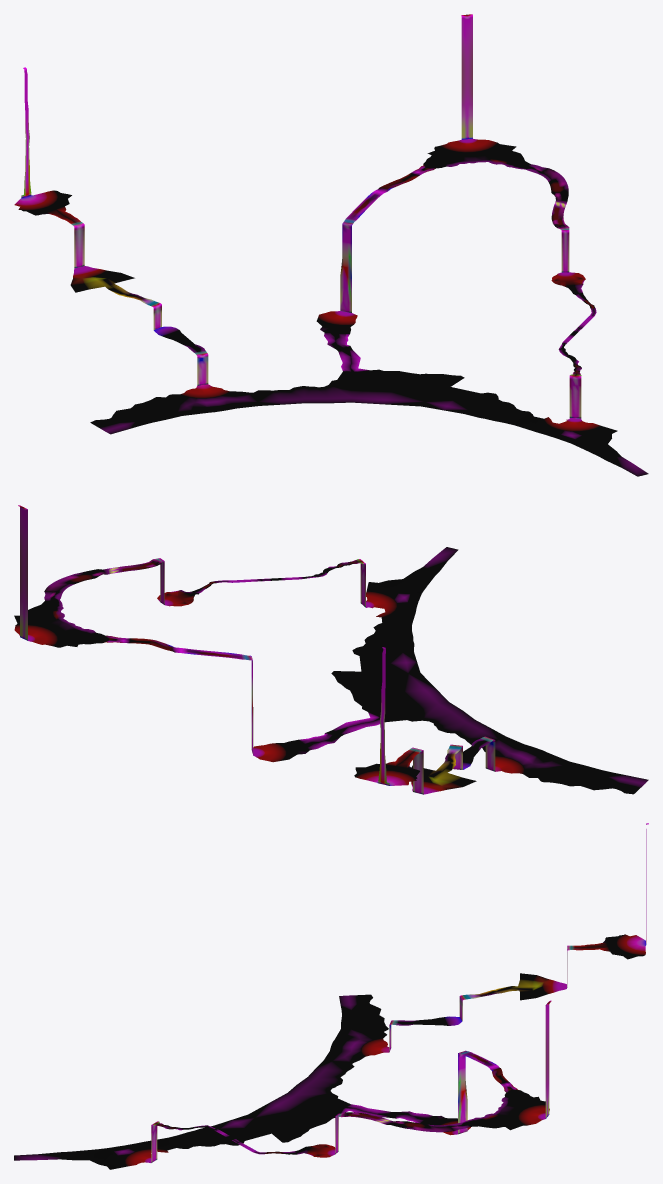
3 renders of one model, top to bottom at view 1: azimuth 30°, elevation 25°; view 2: azimuth 150°, elevation 25°; view 3: azimuth 270°, elevation 25°, orthographic. The views are drawn at different scales.
Parts seen in each view (by area): view 1: G:\FFXIV-MapTools\exports\k5f1\bg\ex4\03_kld_k5\fld\k5f1\bgp (×2); view 2: G:\FFXIV-MapTools\exports\k5f1\bg\ex4\03_kld_k5\fld\k5f1\bgp (×2); view 3: G:\FFXIV-MapTools\exports\k5f1\bg\ex4\03_kld_k5\fld\k5f1\bgp (×2).
Boxes of the visible parts, x1,y1,x2,y2 form: G:\FFXIV-MapTools\exports\k5f1\bg\ex4\03_kld_k5\fld\k5f1\bgp (×2): [14, 14, 648, 476]; G:\FFXIV-MapTools\exports\k5f1\bg\ex4\03_kld_k5\fld\k5f1\bgp (×2): [14, 505, 648, 794]; G:\FFXIV-MapTools\exports\k5f1\bg\ex4\03_kld_k5\fld\k5f1\bgp (×2): [14, 823, 648, 1169].
Bounding box in the file's own units: 996 × 423 × 1166.
